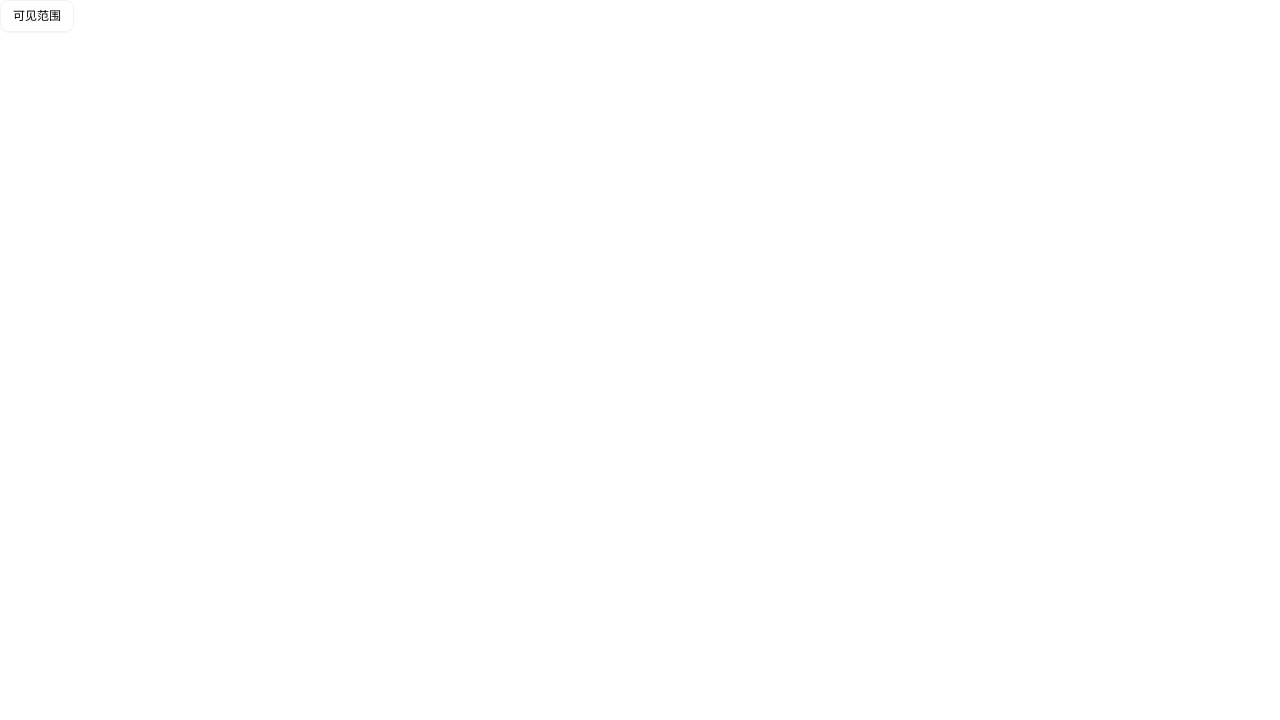
SkillVisibilityDialog › shows usable dialog action labels in zh without translation fallback
Click the button "可见范围" at (37, 16), box [0,0,74,32]
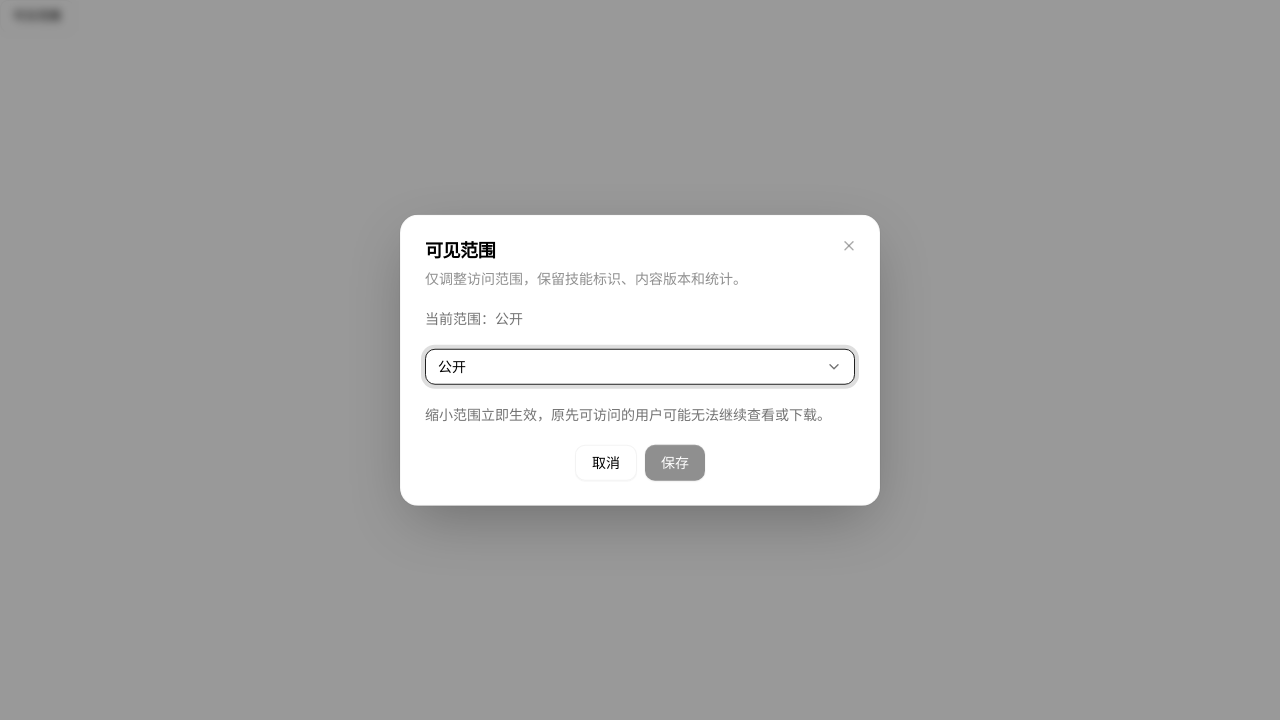
Expected: the button "取消" is shown
Expected: the button "保存" is shown, [645,444,705,480]
Click the button "取消" at (606, 462), box [575,444,637,480]
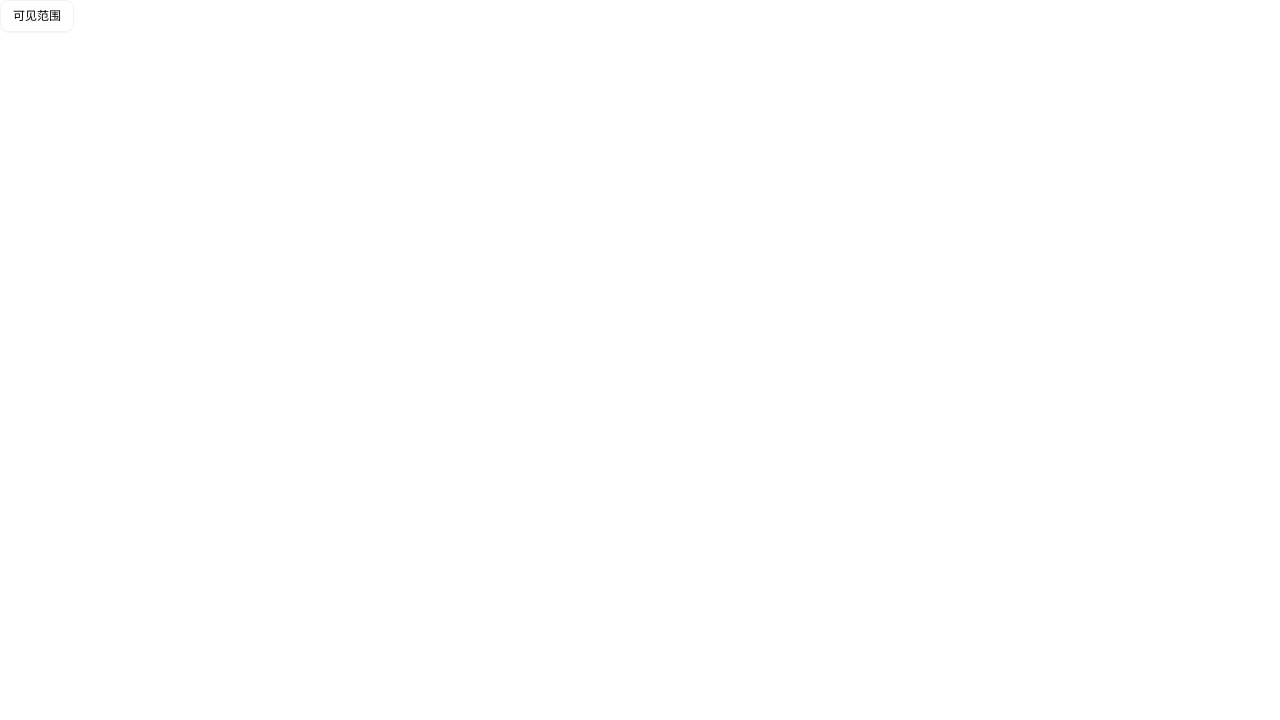
Expected: the dialog is gone
